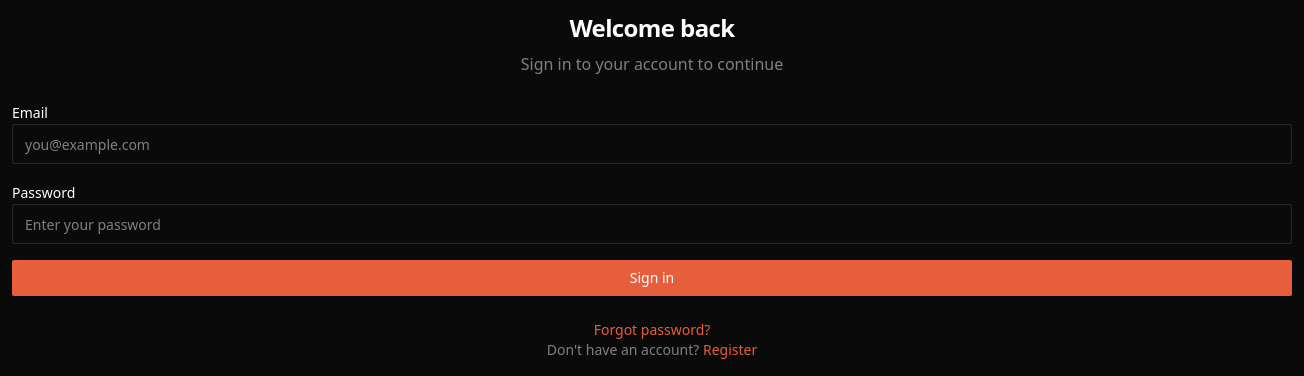
LoginPage › disables form while submitting
Step 1. Type "test@example.com" into the field labelled "Email" → coordinates (652, 144), box [12,124,1292,164]
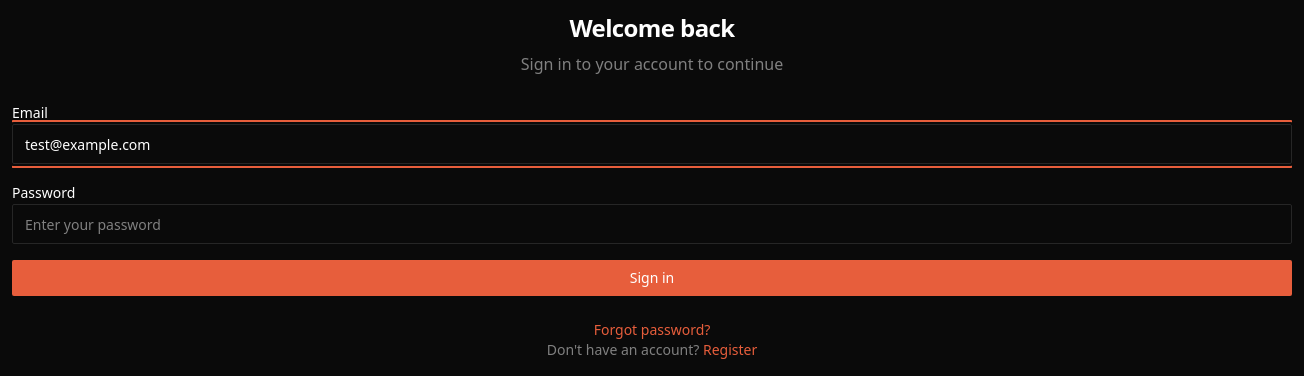
Step 2. Type "password123" into the password field labelled "Password" → coordinates (652, 224), box [12,204,1292,244]
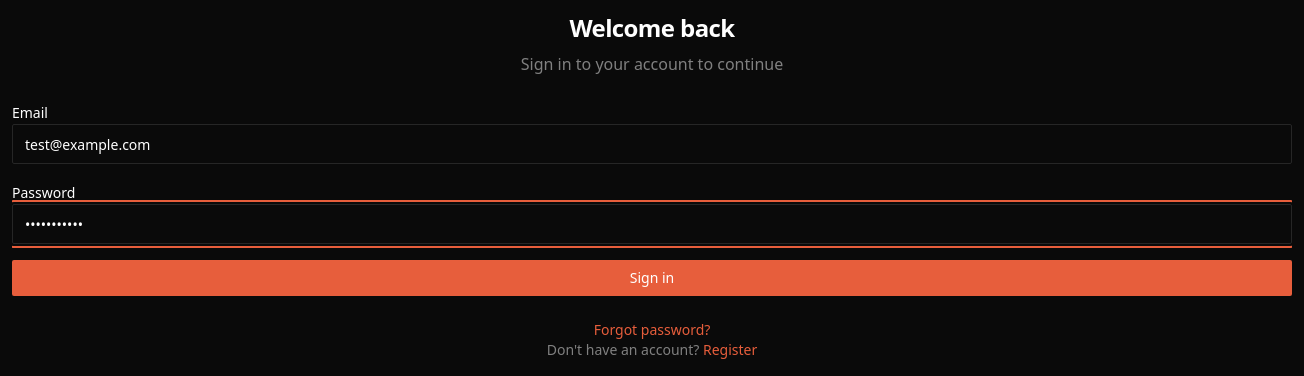
Step 3. Click the button "Sign in" → coordinates (652, 278), box [12,260,1292,296]
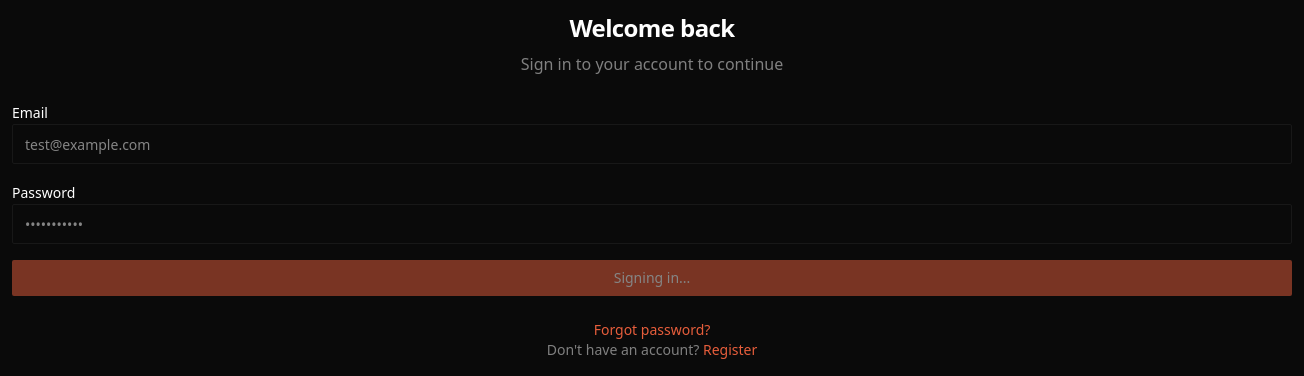
Now the button "Signing in..." is disabled, box [12,260,1292,296]
